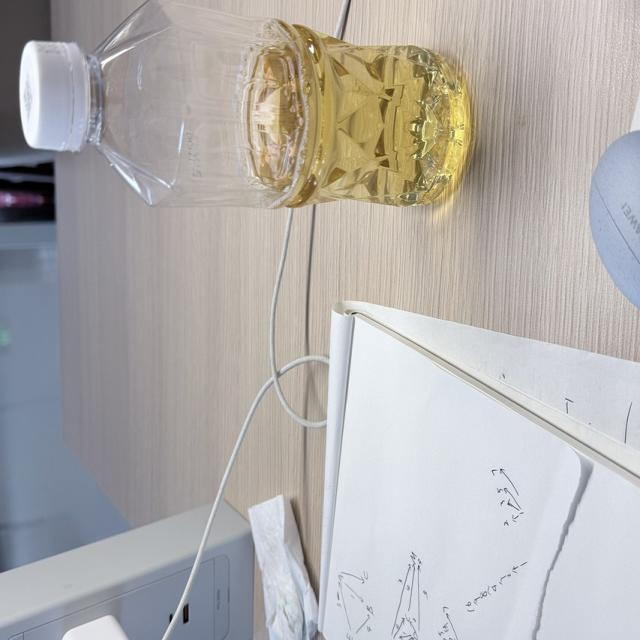medium: (21, 0, 466, 207)
